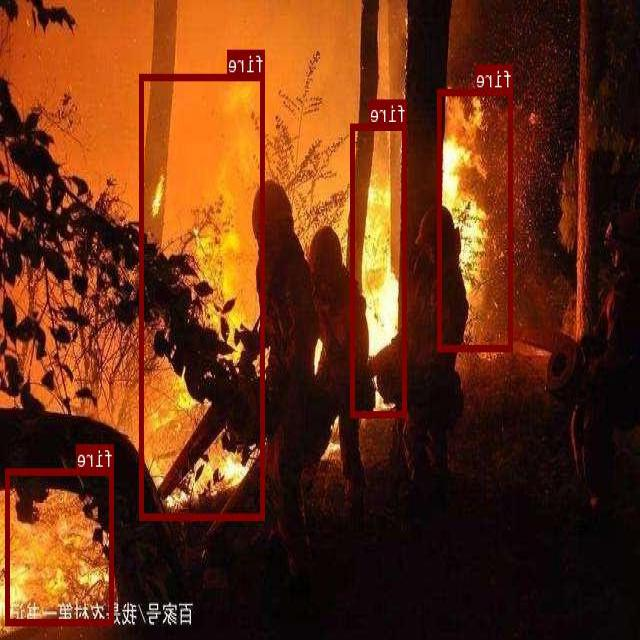fire: (141, 73, 265, 519), (439, 88, 513, 350), (6, 468, 114, 625), (352, 122, 407, 416)
